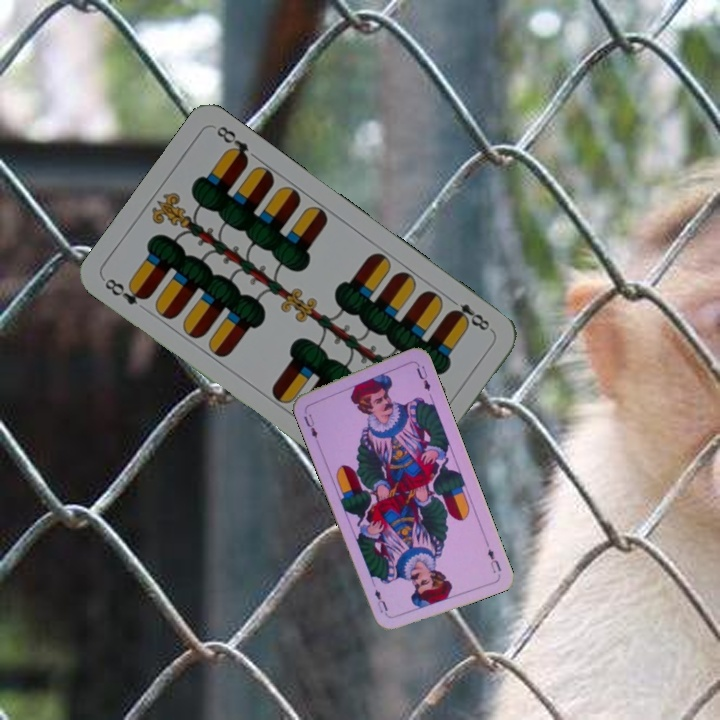E8: (445, 293, 494, 335), (100, 274, 152, 308)
EU: (483, 544, 504, 576), (300, 410, 320, 441)
